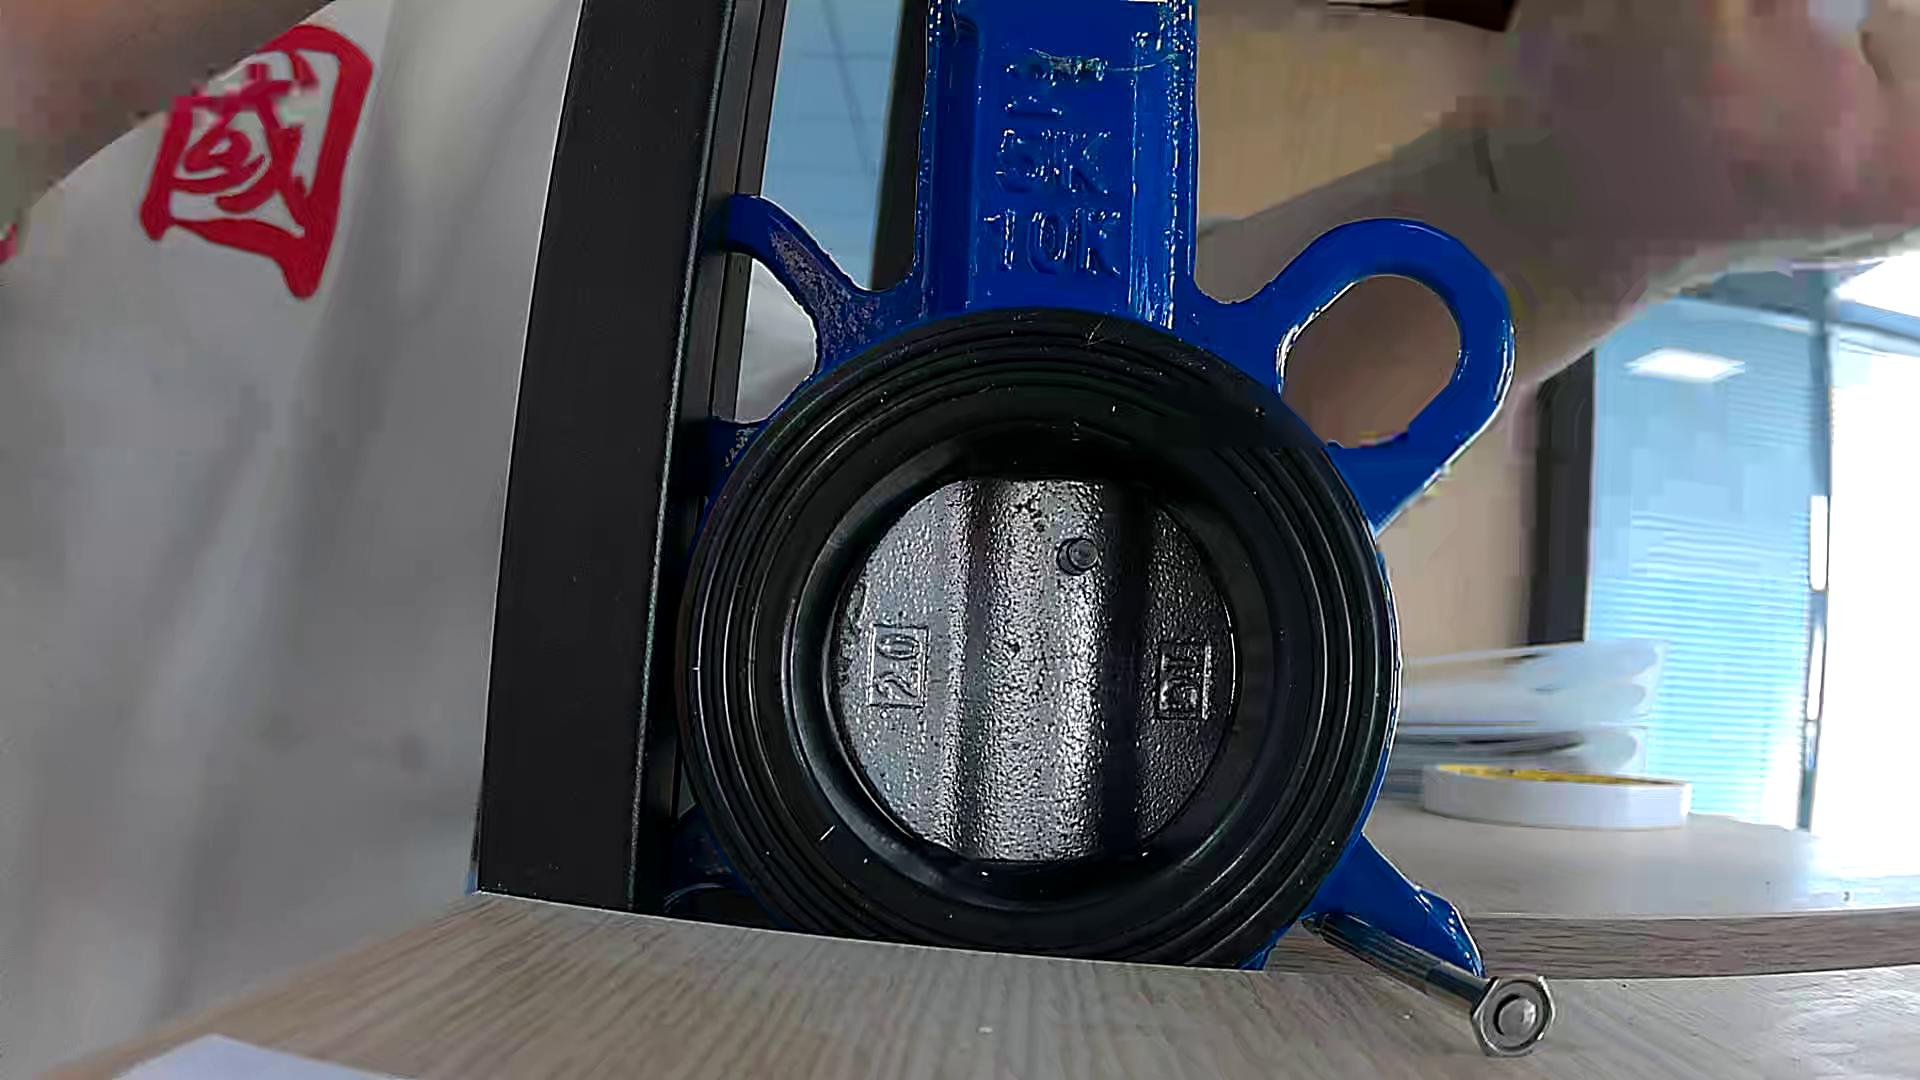valve: (826, 476, 1234, 862)
